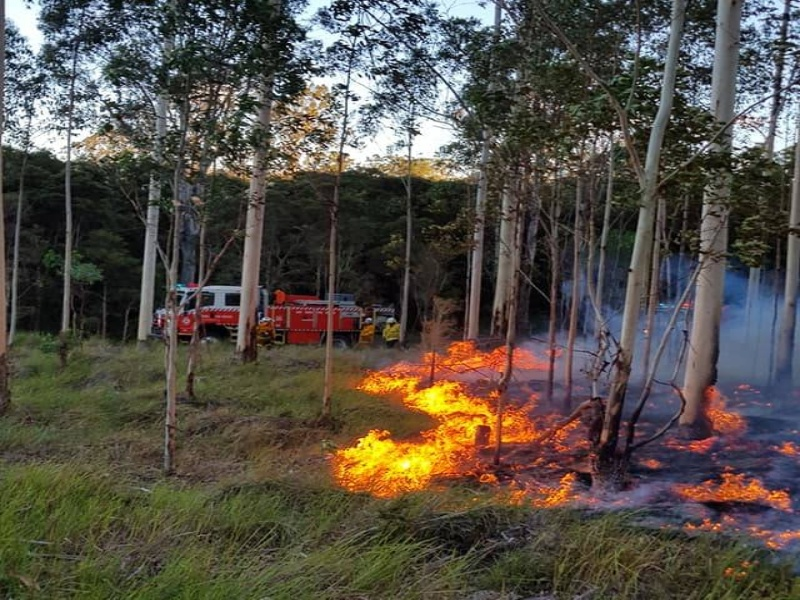smoke: (567, 268, 797, 496)
